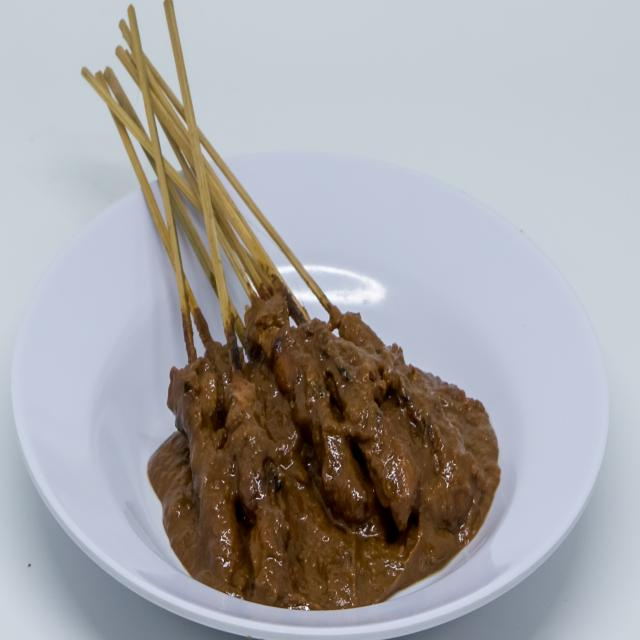Sate-Ayam: (147, 245, 451, 600)
